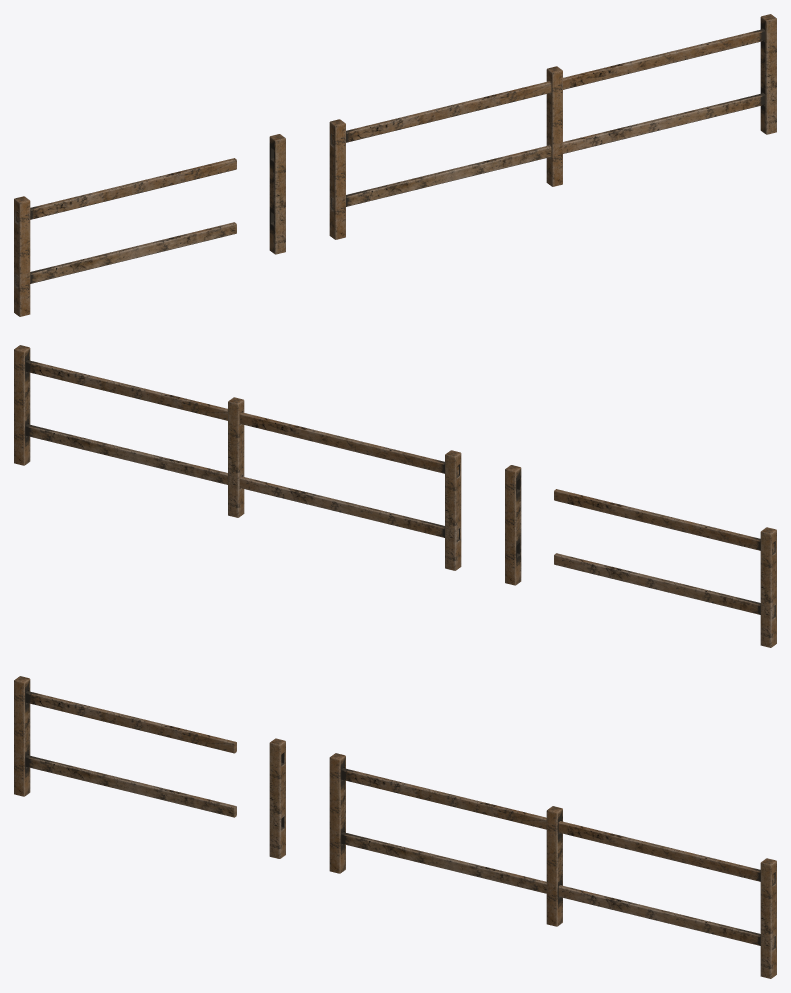
The model's file is wooden_fence_building_farm.glb.
The picture shows the model from 3 angles, top to bottom: view 1: azimuth 30°, elevation 25°; view 2: azimuth 150°, elevation 25°; view 3: azimuth 330°, elevation 25°; orthographic projection.
Visible parts, largest first — view 1: Cube_1, Cube_3, Cube_4; view 2: Cube_1, Cube_3, Cube_4; view 3: Cube_1, Cube_3, Cube_4.
Part boxes in pixels (<box>): Cube_1: <box>329,14,776,239</box>; Cube_3: <box>14,158,236,316</box>; Cube_4: <box>269,134,285,254</box>; Cube_1: <box>14,345,461,570</box>; Cube_3: <box>554,489,776,647</box>; Cube_4: <box>505,465,521,585</box>; Cube_1: <box>329,753,776,978</box>; Cube_3: <box>14,676,236,817</box>; Cube_4: <box>269,738,285,858</box>.
Size of the model in its own units: 6.95 by 1 by 0.1.
Materials: 1 (1 with a texture image).
